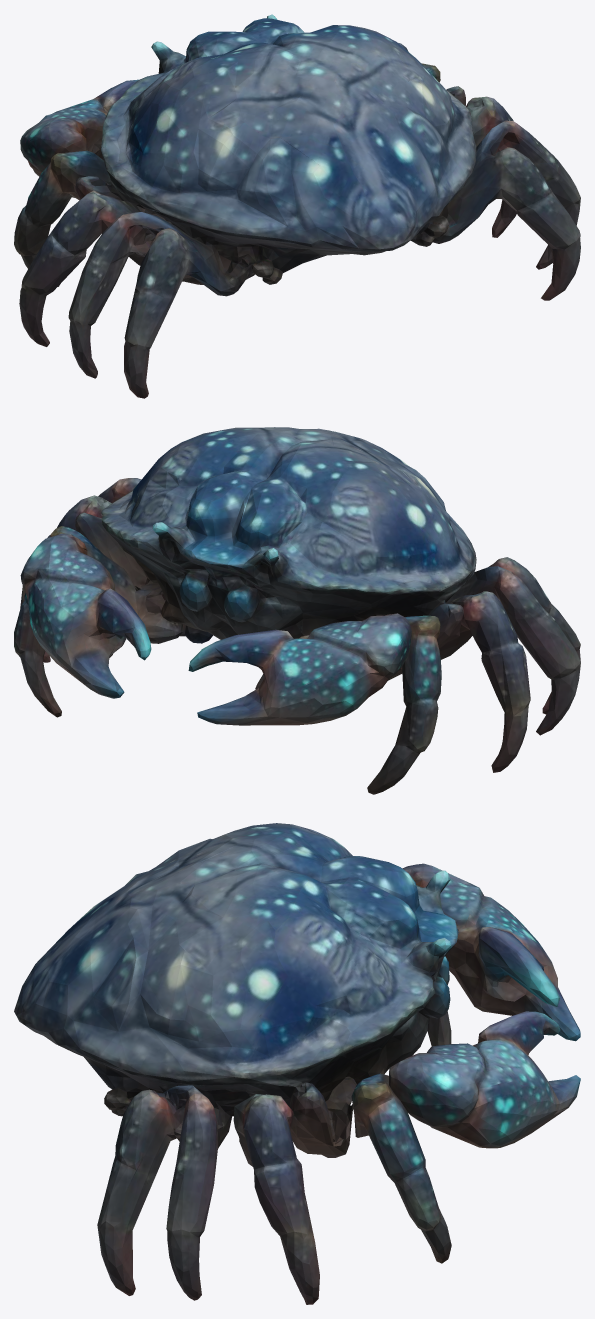
Rendered from glowCrab.glb.
3 views of the same model, one above another, from view 1: azimuth 30°, elevation 25°; view 2: azimuth 150°, elevation 25°; view 3: azimuth 270°, elevation 25° (orthographic). The views are drawn at different scales.
Visible parts, largest first — view 1: world; view 2: world; view 3: world.
Boxes of the visible parts, bbox=[...] form: world: bbox=[14, 14, 580, 398]; world: bbox=[14, 427, 580, 794]; world: bbox=[14, 823, 580, 1304].
Bounding box in the file's own units: 0.9993 × 0.4967 × 0.8054.
1 material, 1 textured.
